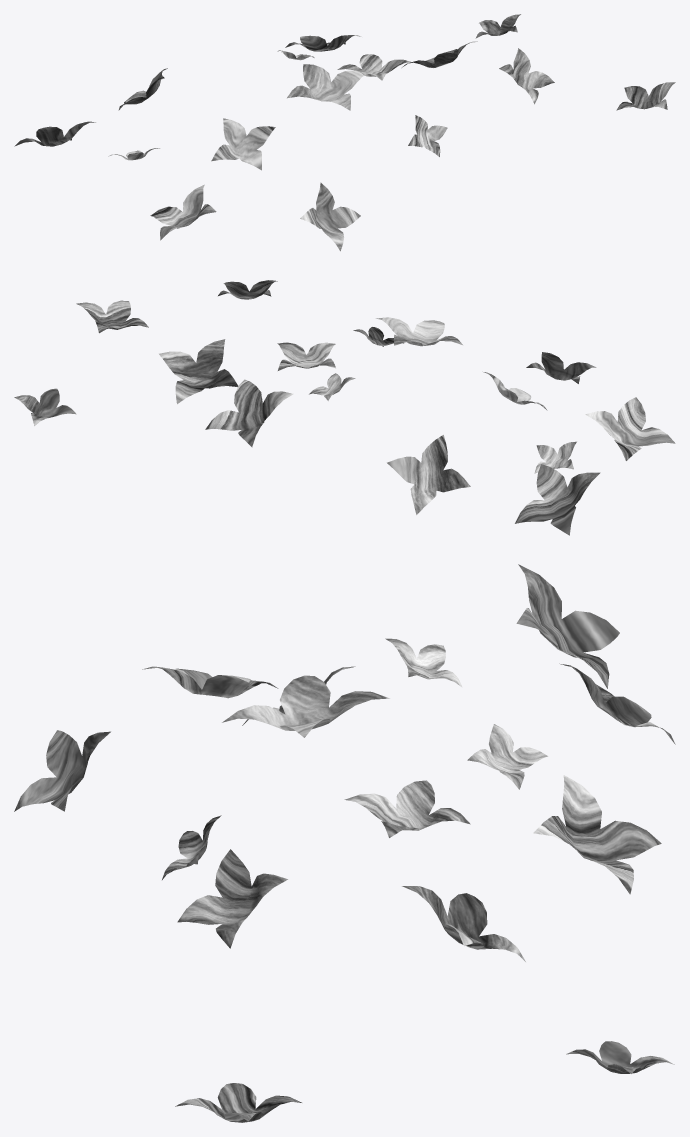
Rendered from SM_Flower_Yellow.fbx.
The picture shows the model from 3 angles, top to bottom: view 1: azimuth 30°, elevation 25°; view 2: azimuth 150°, elevation 25°; view 3: azimuth 270°, elevation 25°; orthographic projection. The views are drawn at different scales.
Visible parts, largest first — view 1: SM_Flower_Yellow_LOD0; view 2: SM_Flower_Yellow_LOD0; view 3: SM_Flower_Yellow_LOD0.
Boxes of the visible parts, x1,y1,x2,y2 form: SM_Flower_Yellow_LOD0: (14, 14, 675, 251); SM_Flower_Yellow_LOD0: (14, 280, 675, 535); SM_Flower_Yellow_LOD0: (14, 564, 675, 1122).
Size of the model in its own units: 247 by 140 by 40.92.
1 material, 1 textured.
